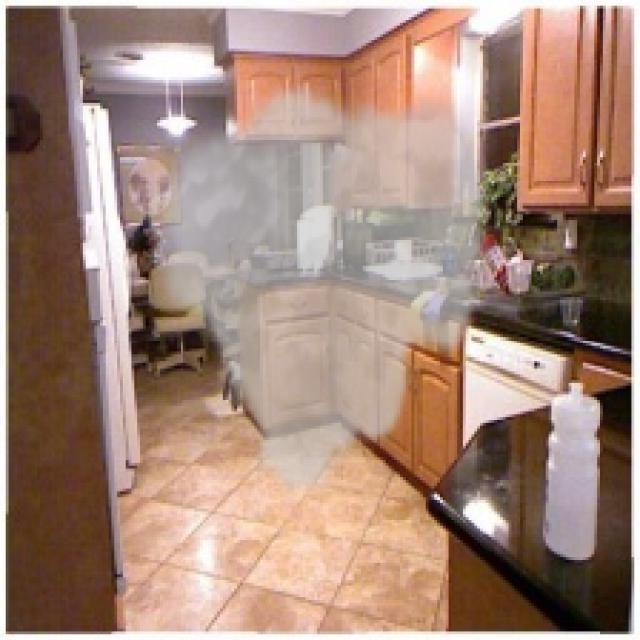smoke: (152, 80, 494, 503)
